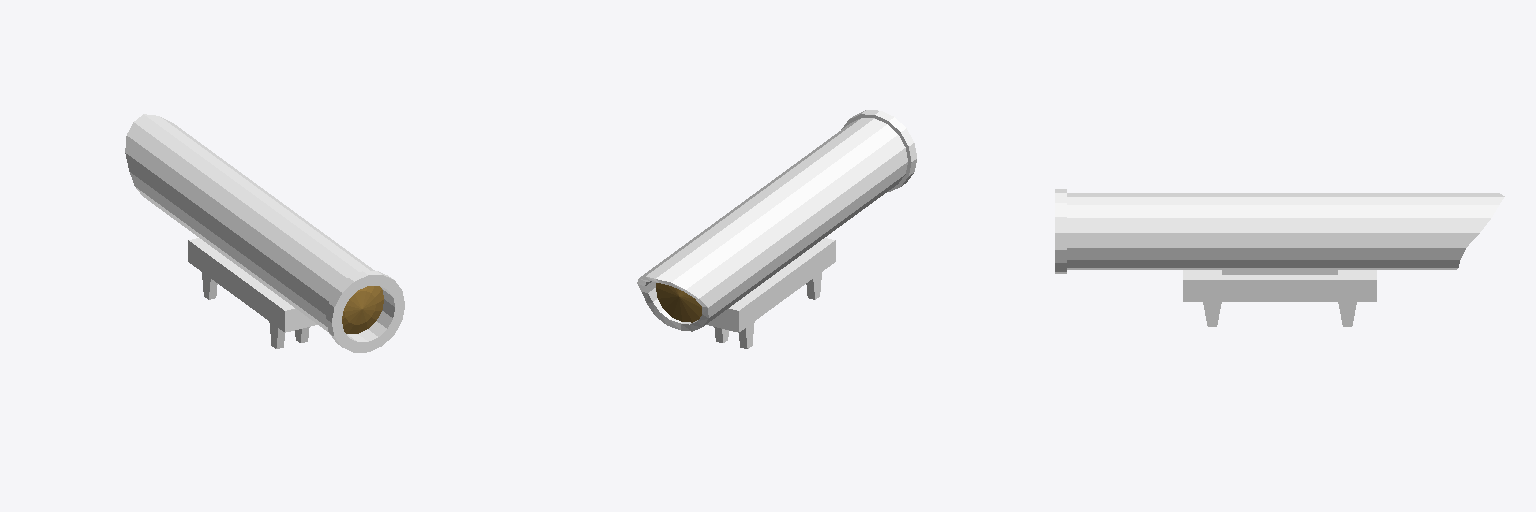
Rendered from FSR-S5-Scope.obj.
3 views of the same model, side by side, from view 1: azimuth 30°, elevation 25°; view 2: azimuth 150°, elevation 25°; view 3: azimuth 270°, elevation 25° (orthographic).
Parts seen in each view (by area): view 1: FSR-S5-Scope; view 2: FSR-S5-Scope; view 3: FSR-S5-Scope.
Part boxes in pixels (x1,y1,x2,y2): FSR-S5-Scope: (125,114,404,352); FSR-S5-Scope: (637,110,916,348); FSR-S5-Scope: (1055,189,1504,326).
Size of the model in its own units: 1.1 by 1.8 by 5.83.